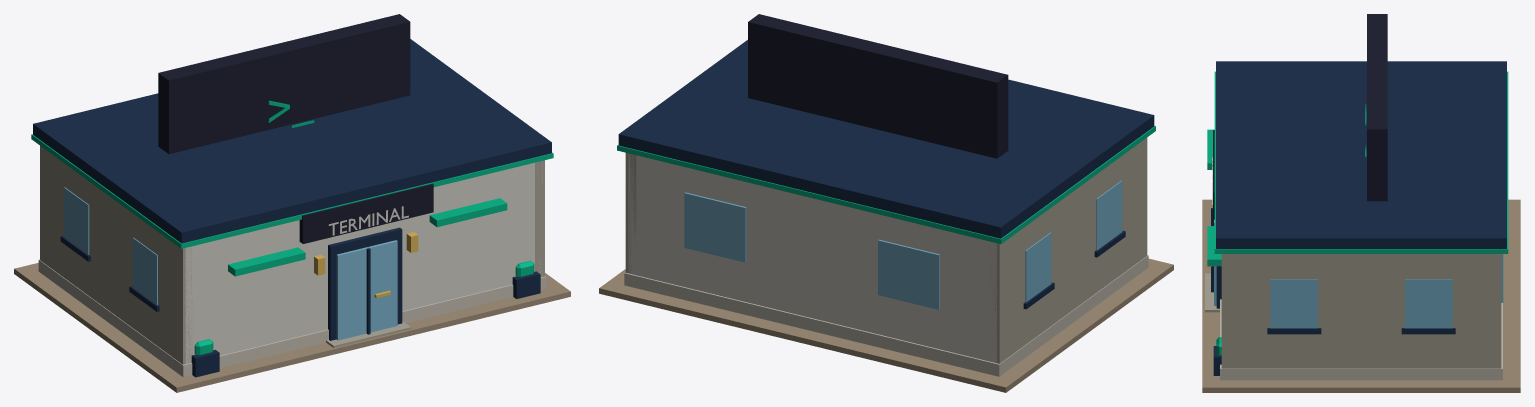
File: terminal-cantina-BKDJ8J2p.glb
3 renders of one model, left to right at view 1: azimuth 30°, elevation 25°; view 2: azimuth 150°, elevation 25°; view 3: azimuth 270°, elevation 25°, orthographic. The views are drawn at different scales.
Visible parts, largest first — view 1: Architecture; view 2: Architecture; view 3: Architecture.
Part boxes in pixels (box(x1,y1,x2,y2)): Architecture: box(14, 14, 570, 392); Architecture: box(599, 14, 1173, 392); Architecture: box(1202, 14, 1520, 392).
Bounding box in the file's own units: 14 × 7.88 × 10.
